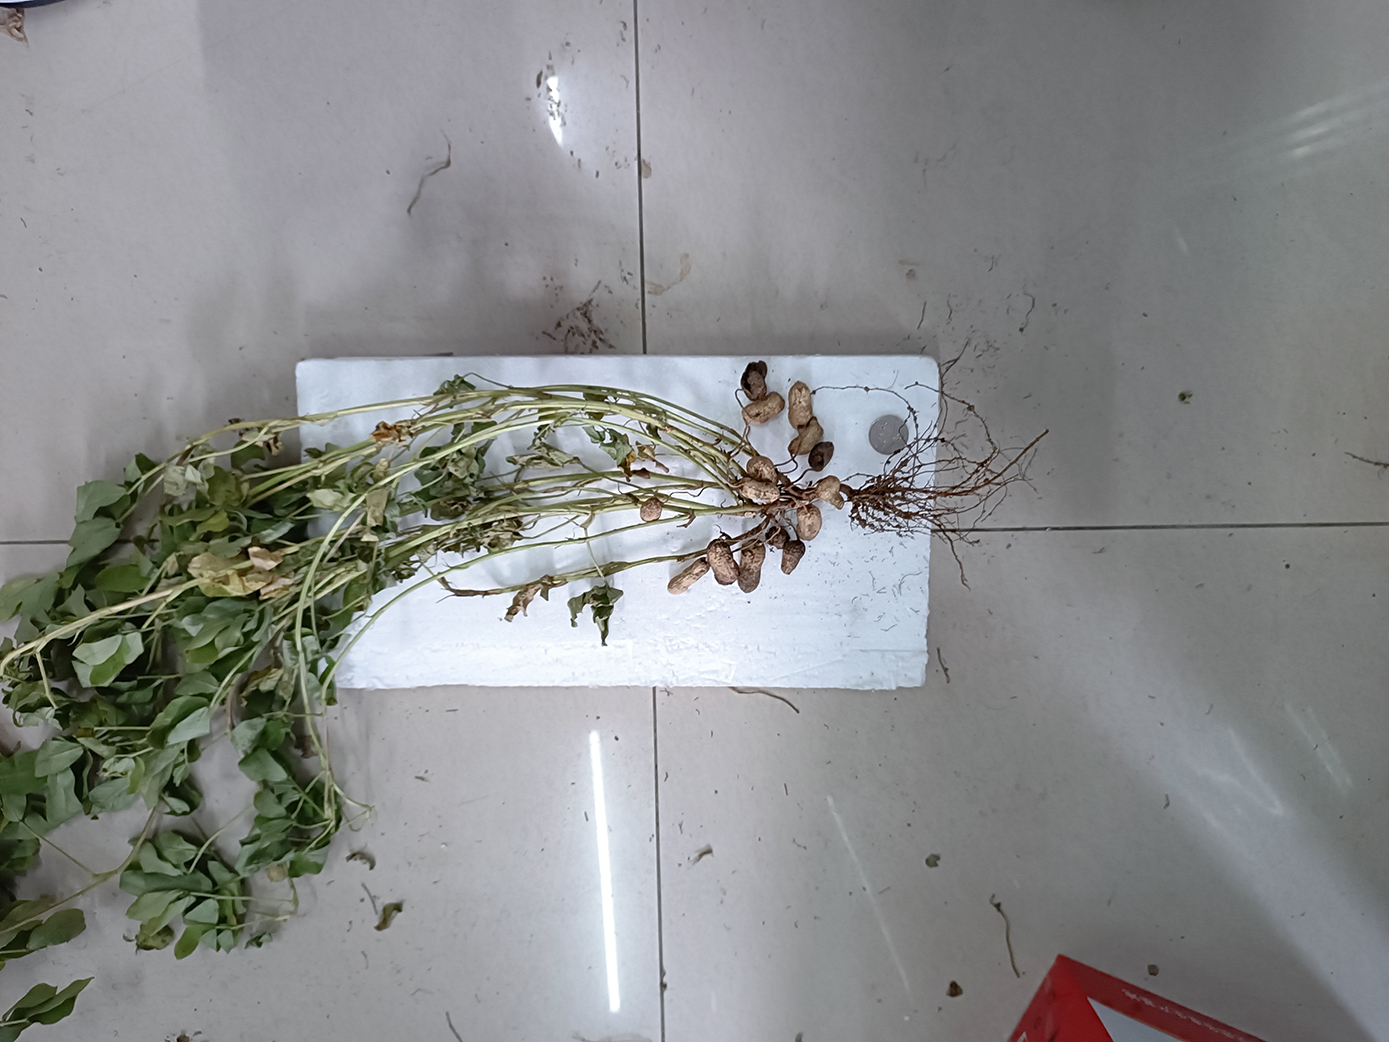h: (667, 559, 709, 594), (742, 391, 785, 424), (791, 418, 826, 456), (787, 381, 812, 427), (815, 475, 845, 510), (738, 477, 778, 502), (796, 503, 823, 541), (745, 456, 776, 481), (639, 497, 662, 522)
l: (706, 540, 739, 584), (739, 540, 765, 594), (740, 360, 769, 401), (780, 540, 805, 574), (808, 441, 834, 472), (767, 526, 788, 548)
